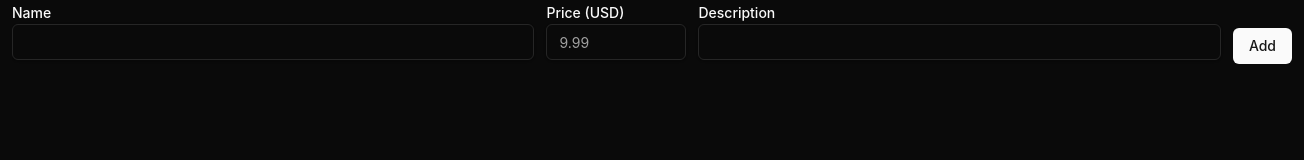
Test: ProductCreateForm › shows validation errors when name is missing
# Try to submit without filling name
Click the button "Add" at (1262, 46), box x1=1233 y1=28 x2=1292 y2=64
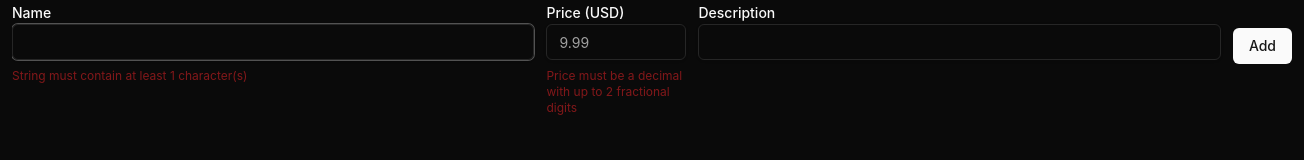
Result: the text "String must contain at least 1 character(s)" is shown at x1=12 y1=68 x2=247 y2=83
